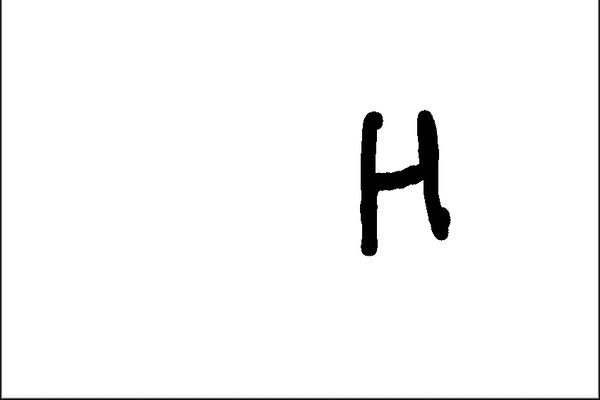H: (348, 103, 457, 260)
